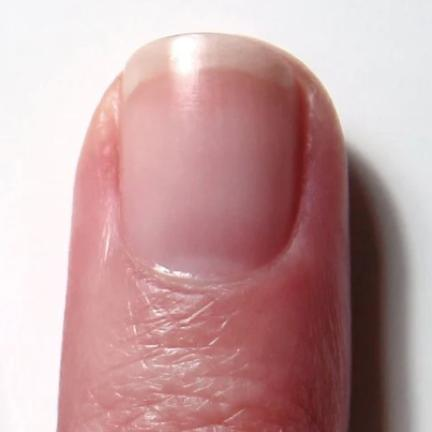Nail: (119, 34, 301, 276)
